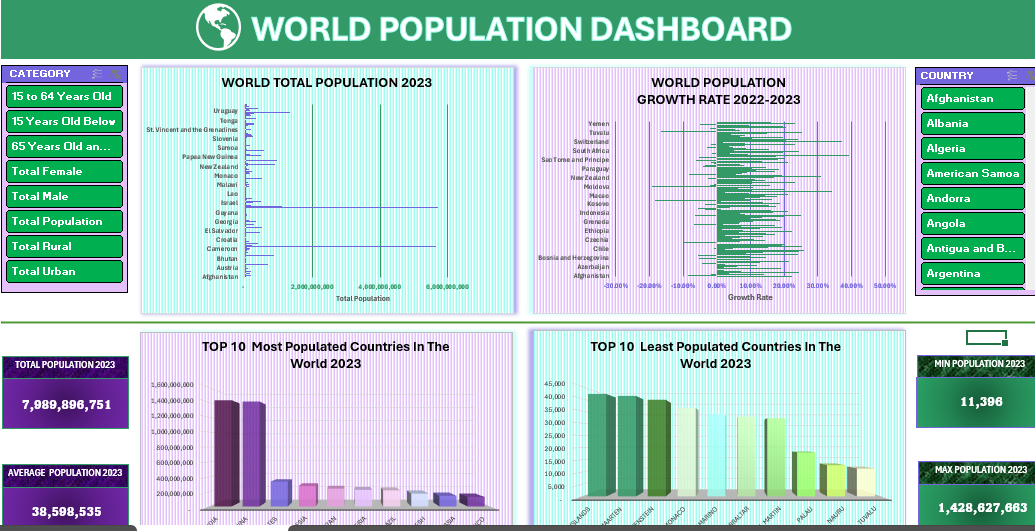

Layout of this report page (visuals, bound fields, positions):
{"tool":"powerbi","page":{"name":"Page 1","canvas":[1280,720],"ordinal":0},"visuals":[{"type":"textbox","box":[0,0,1279.4,109.6],"z":0},{"type":"card","fields":{"Values":["Sum(table_world_population.2023)"]},"box":[252.4,149.5,194.1,181.3],"z":1000},{"type":"card","fields":{"Values":["_Measure.avg20233"]},"box":[446.5,149.5,194.1,181.3],"z":2000},{"type":"card","fields":{"Values":["_Measure.Max2023"]},"box":[640.5,149.5,194.1,181.3],"z":3000},{"type":"card","fields":{"Values":["_Measure.Min2023"]},"box":[834.6,149.5,194.1,181.3],"z":4000},{"type":"slicer","fields":{"Values":["table_world_population.POPULATION_CATEGORY"]},"box":[20,120.9,208.4,238.6],"z":5000},{"type":"slicer","fields":{"Values":["table_world_population.COUNTRY"]},"box":[1053,120.9,208.4,238.6],"z":6000},{"type":"clusteredBarChart","title":"TOTAL POPULATION  BY COUNTRY","fields":{"Category":["table_world_population.COUNTRY"],"Y":["Sum(table_world_population.2023)"]},"box":[20.7,372.2,600,334],"z":7000},{"type":"clusteredBarChart","title":"GROWTH RATE 2022-2023","fields":{"Category":["table_world_population.COUNTRY"],"Y":["Sum(table_world_population.GROWTH RATE_1YR)"]},"box":[661.7,372.2,599.7,334],"z":8000},{"type":"image","box":[256.1,0,98.6,106.6],"z":9000},{"type":"actionButton","box":[1135,35,100,40],"z":10000}]}

Visuals, with their boxes on the page's 1280x720 design canvas (x1, y1, x2, y2). These are canvas units, not pixel positions in the 1035x531 screenshot, which may show the page scaled, cropped or inside an application window:
textbox: [x1=0, y1=0, x2=1279, y2=110]
card - Sum(table_world_population.2023): [x1=252, y1=150, x2=446, y2=331]
card - _Measure.avg20233: [x1=446, y1=150, x2=641, y2=331]
card - _Measure.Max2023: [x1=640, y1=150, x2=835, y2=331]
card - _Measure.Min2023: [x1=835, y1=150, x2=1029, y2=331]
slicer - table_world_population.POPULATION_CATEGORY: [x1=20, y1=121, x2=228, y2=360]
slicer - table_world_population.COUNTRY: [x1=1053, y1=121, x2=1261, y2=360]
"TOTAL POPULATION  BY COUNTRY" clusteredBarChart: [x1=21, y1=372, x2=621, y2=706]
"GROWTH RATE 2022-2023" clusteredBarChart: [x1=662, y1=372, x2=1261, y2=706]
image: [x1=256, y1=0, x2=355, y2=107]
actionButton: [x1=1135, y1=35, x2=1235, y2=75]
